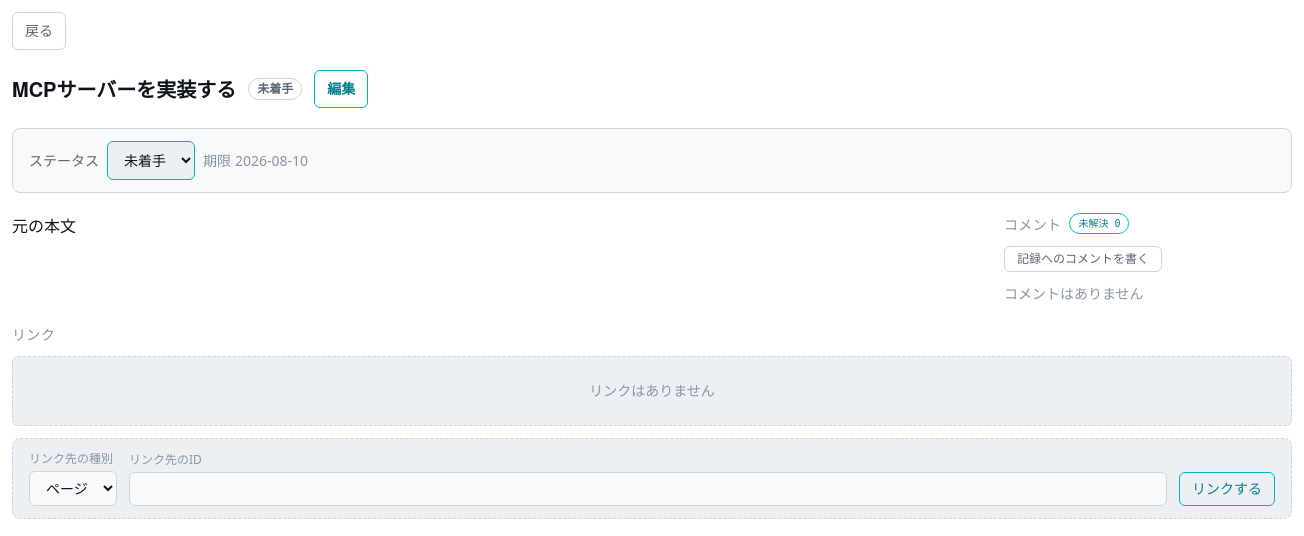
Test: TaskDetail の編集 › 保存すると編集内容でupdateTaskを呼び表示を更新する
Expected: the heading "MCPサーバーを実装する" is shown, [12,75,236,103]
Step 1. Click the button "編集" → (341, 89), box [314,70,368,108]
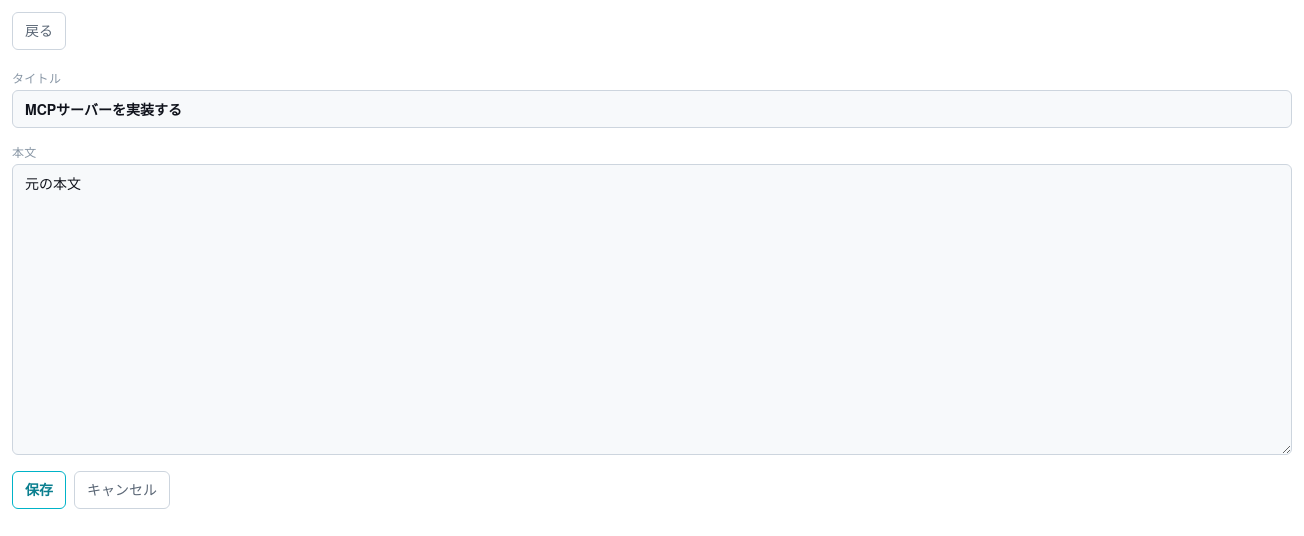
Step 2. Replace the text in the field labelled "タイトル" with "改題したタスク" → (652, 109), box [12,90,1292,128]
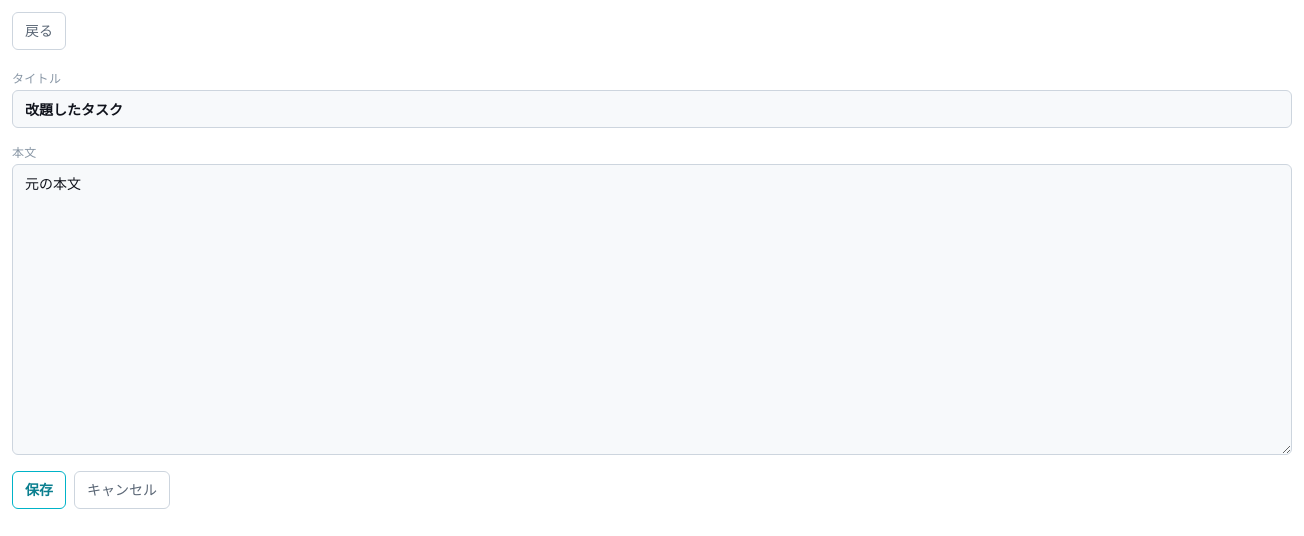
Step 3. Replace the text in the text box labelled "本文" with "## 新しい本文" → (652, 310), box [12,164,1292,455]
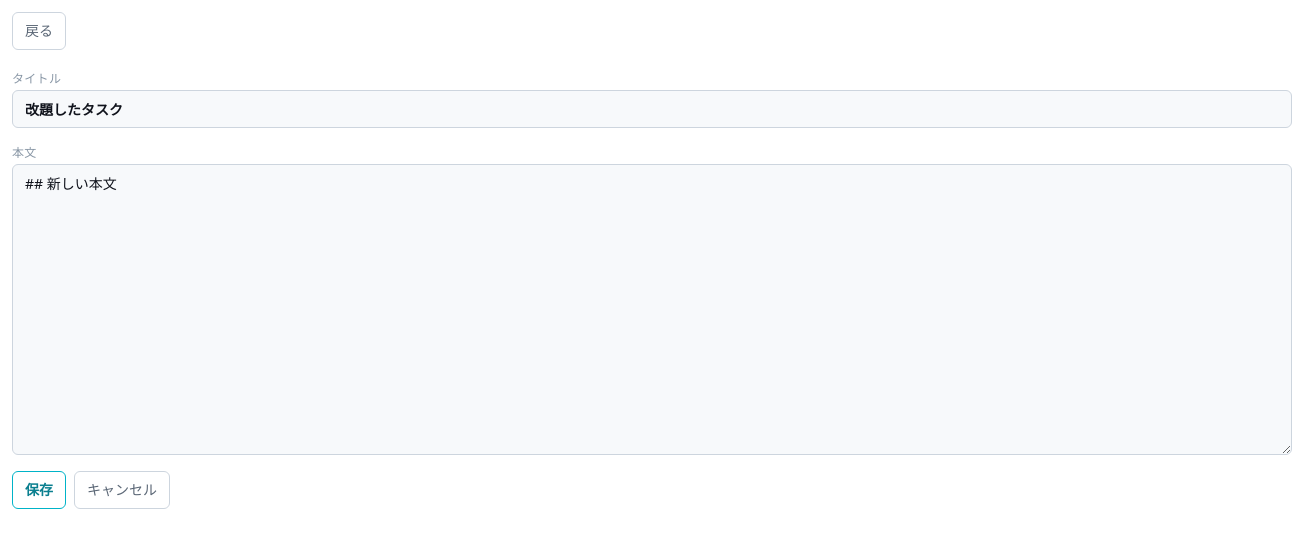
Step 4. Click the button "保存" → (39, 490), box [12,471,66,509]
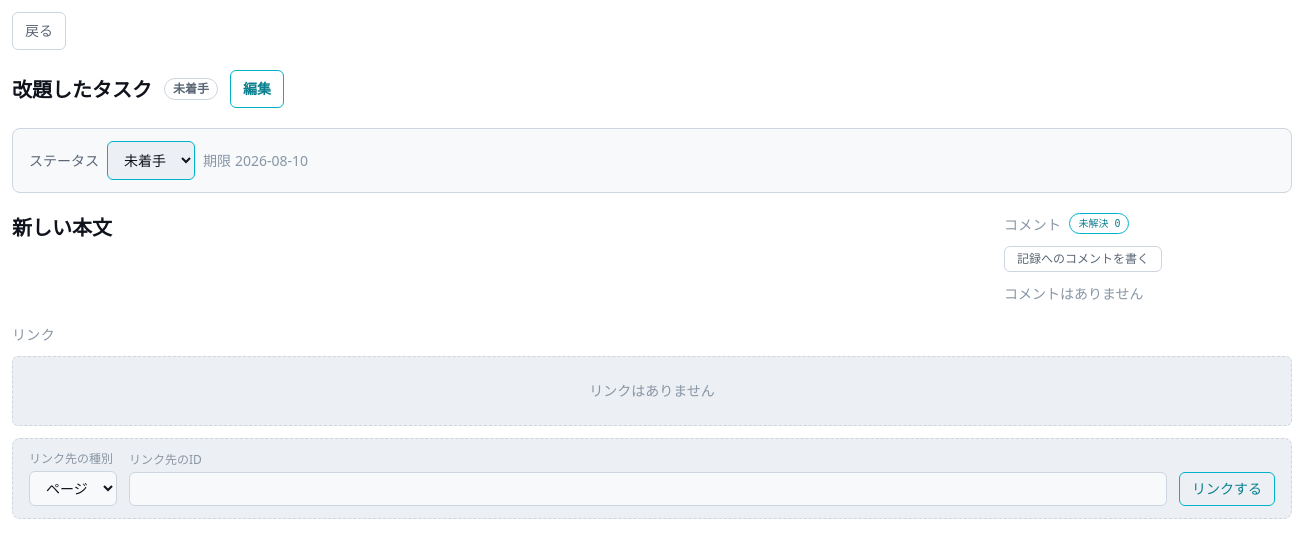
Result: the heading "改題したタスク" is shown at [12,75,152,103]
Result: the heading "新しい本文" is shown at [12,213,112,241]
